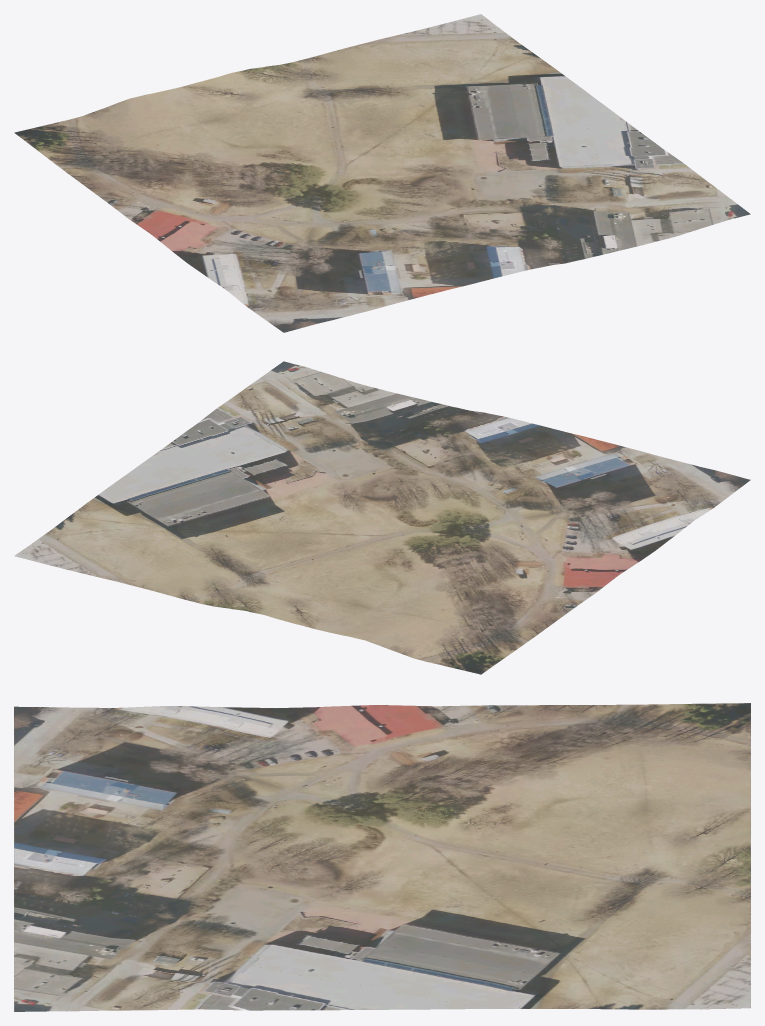
Rendered from CM_Terrain_24489434_6821022.fbx.
3 renders of one model, top to bottom at view 1: azimuth 30°, elevation 25°; view 2: azimuth 150°, elevation 25°; view 3: azimuth 270°, elevation 25°, orthographic. The views are drawn at different scales.
Parts seen in each view (by area): view 1: CM_Terrain_24489434_6821022_LOD0; view 2: CM_Terrain_24489434_6821022_LOD0; view 3: CM_Terrain_24489434_6821022_LOD0.
Boxes of the visible parts, left/top/right/bottom form: CM_Terrain_24489434_6821022_LOD0: left=14, top=14, right=750, bottom=332; CM_Terrain_24489434_6821022_LOD0: left=14, top=361, right=750, bottom=674; CM_Terrain_24489434_6821022_LOD0: left=14, top=703, right=750, bottom=1011.
Size of what is drawn, in the model's own units: 205 by 4.51 by 205.
